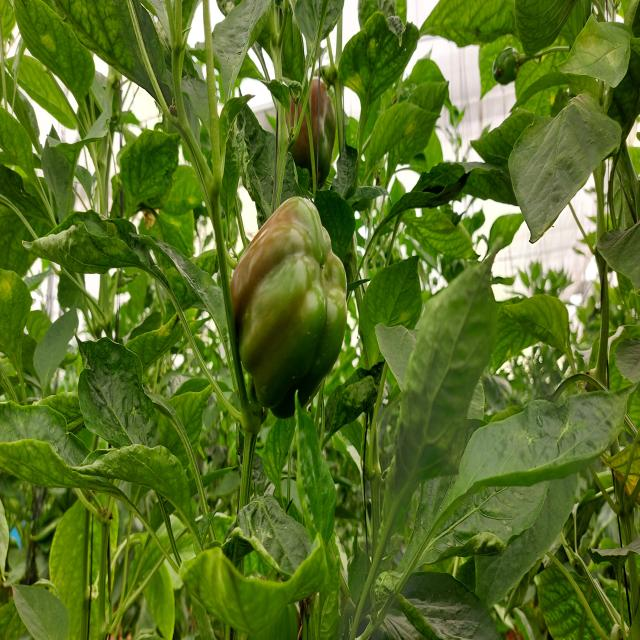BrownishRed--Can-be-Harvested: (228, 203, 349, 414), (290, 80, 335, 183)
